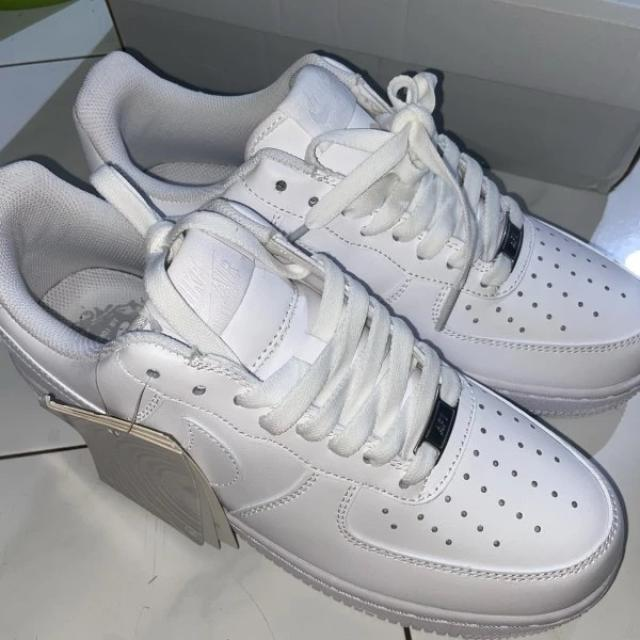nike original air force: (0, 162, 628, 636), (71, 48, 640, 419)
